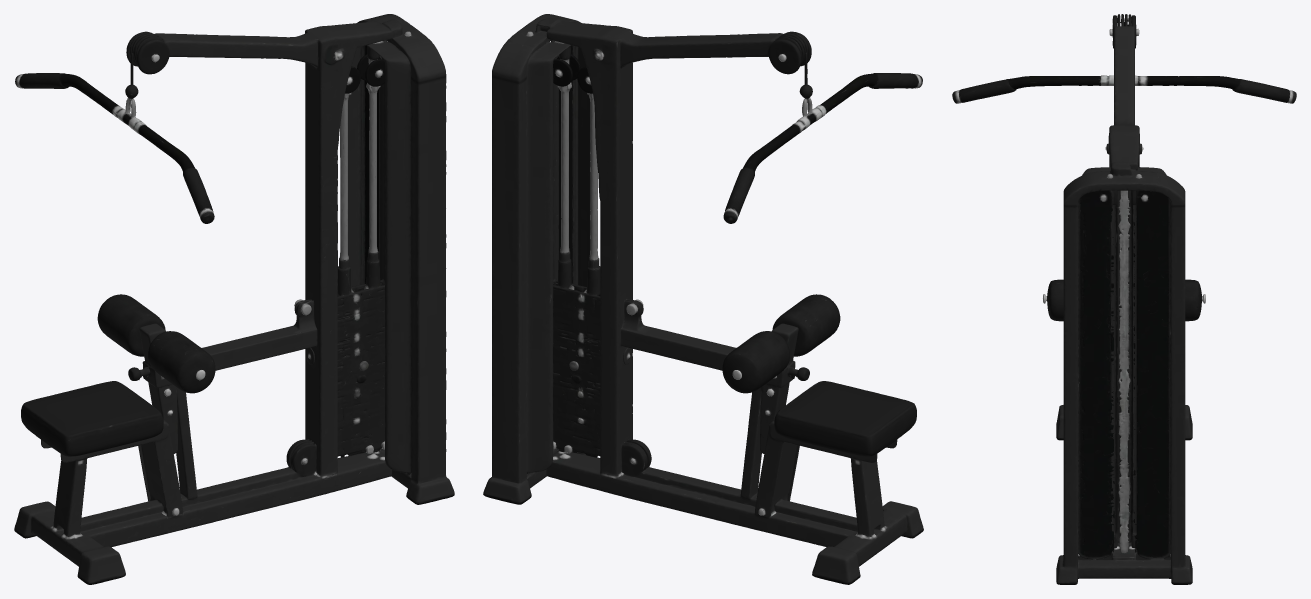
File: sample_2026-11-16T082050.058.glb
The picture shows the model from 3 angles, left to right: view 1: azimuth 30°, elevation 25°; view 2: azimuth 150°, elevation 25°; view 3: azimuth 270°, elevation 25°; orthographic projection. The views are drawn at different scales.
Visible parts, largest first — view 1: world; view 2: world; view 3: world.
Part boxes in pixels (x1=…): world: x1=14, y1=14, x2=454, y2=584; world: x1=483, y1=14, x2=923, y2=584; world: x1=952, y1=14, x2=1296, y2=584.
Size of the model in its own units: 0.787 by 1 by 0.6932.
1 material, 1 textured.
